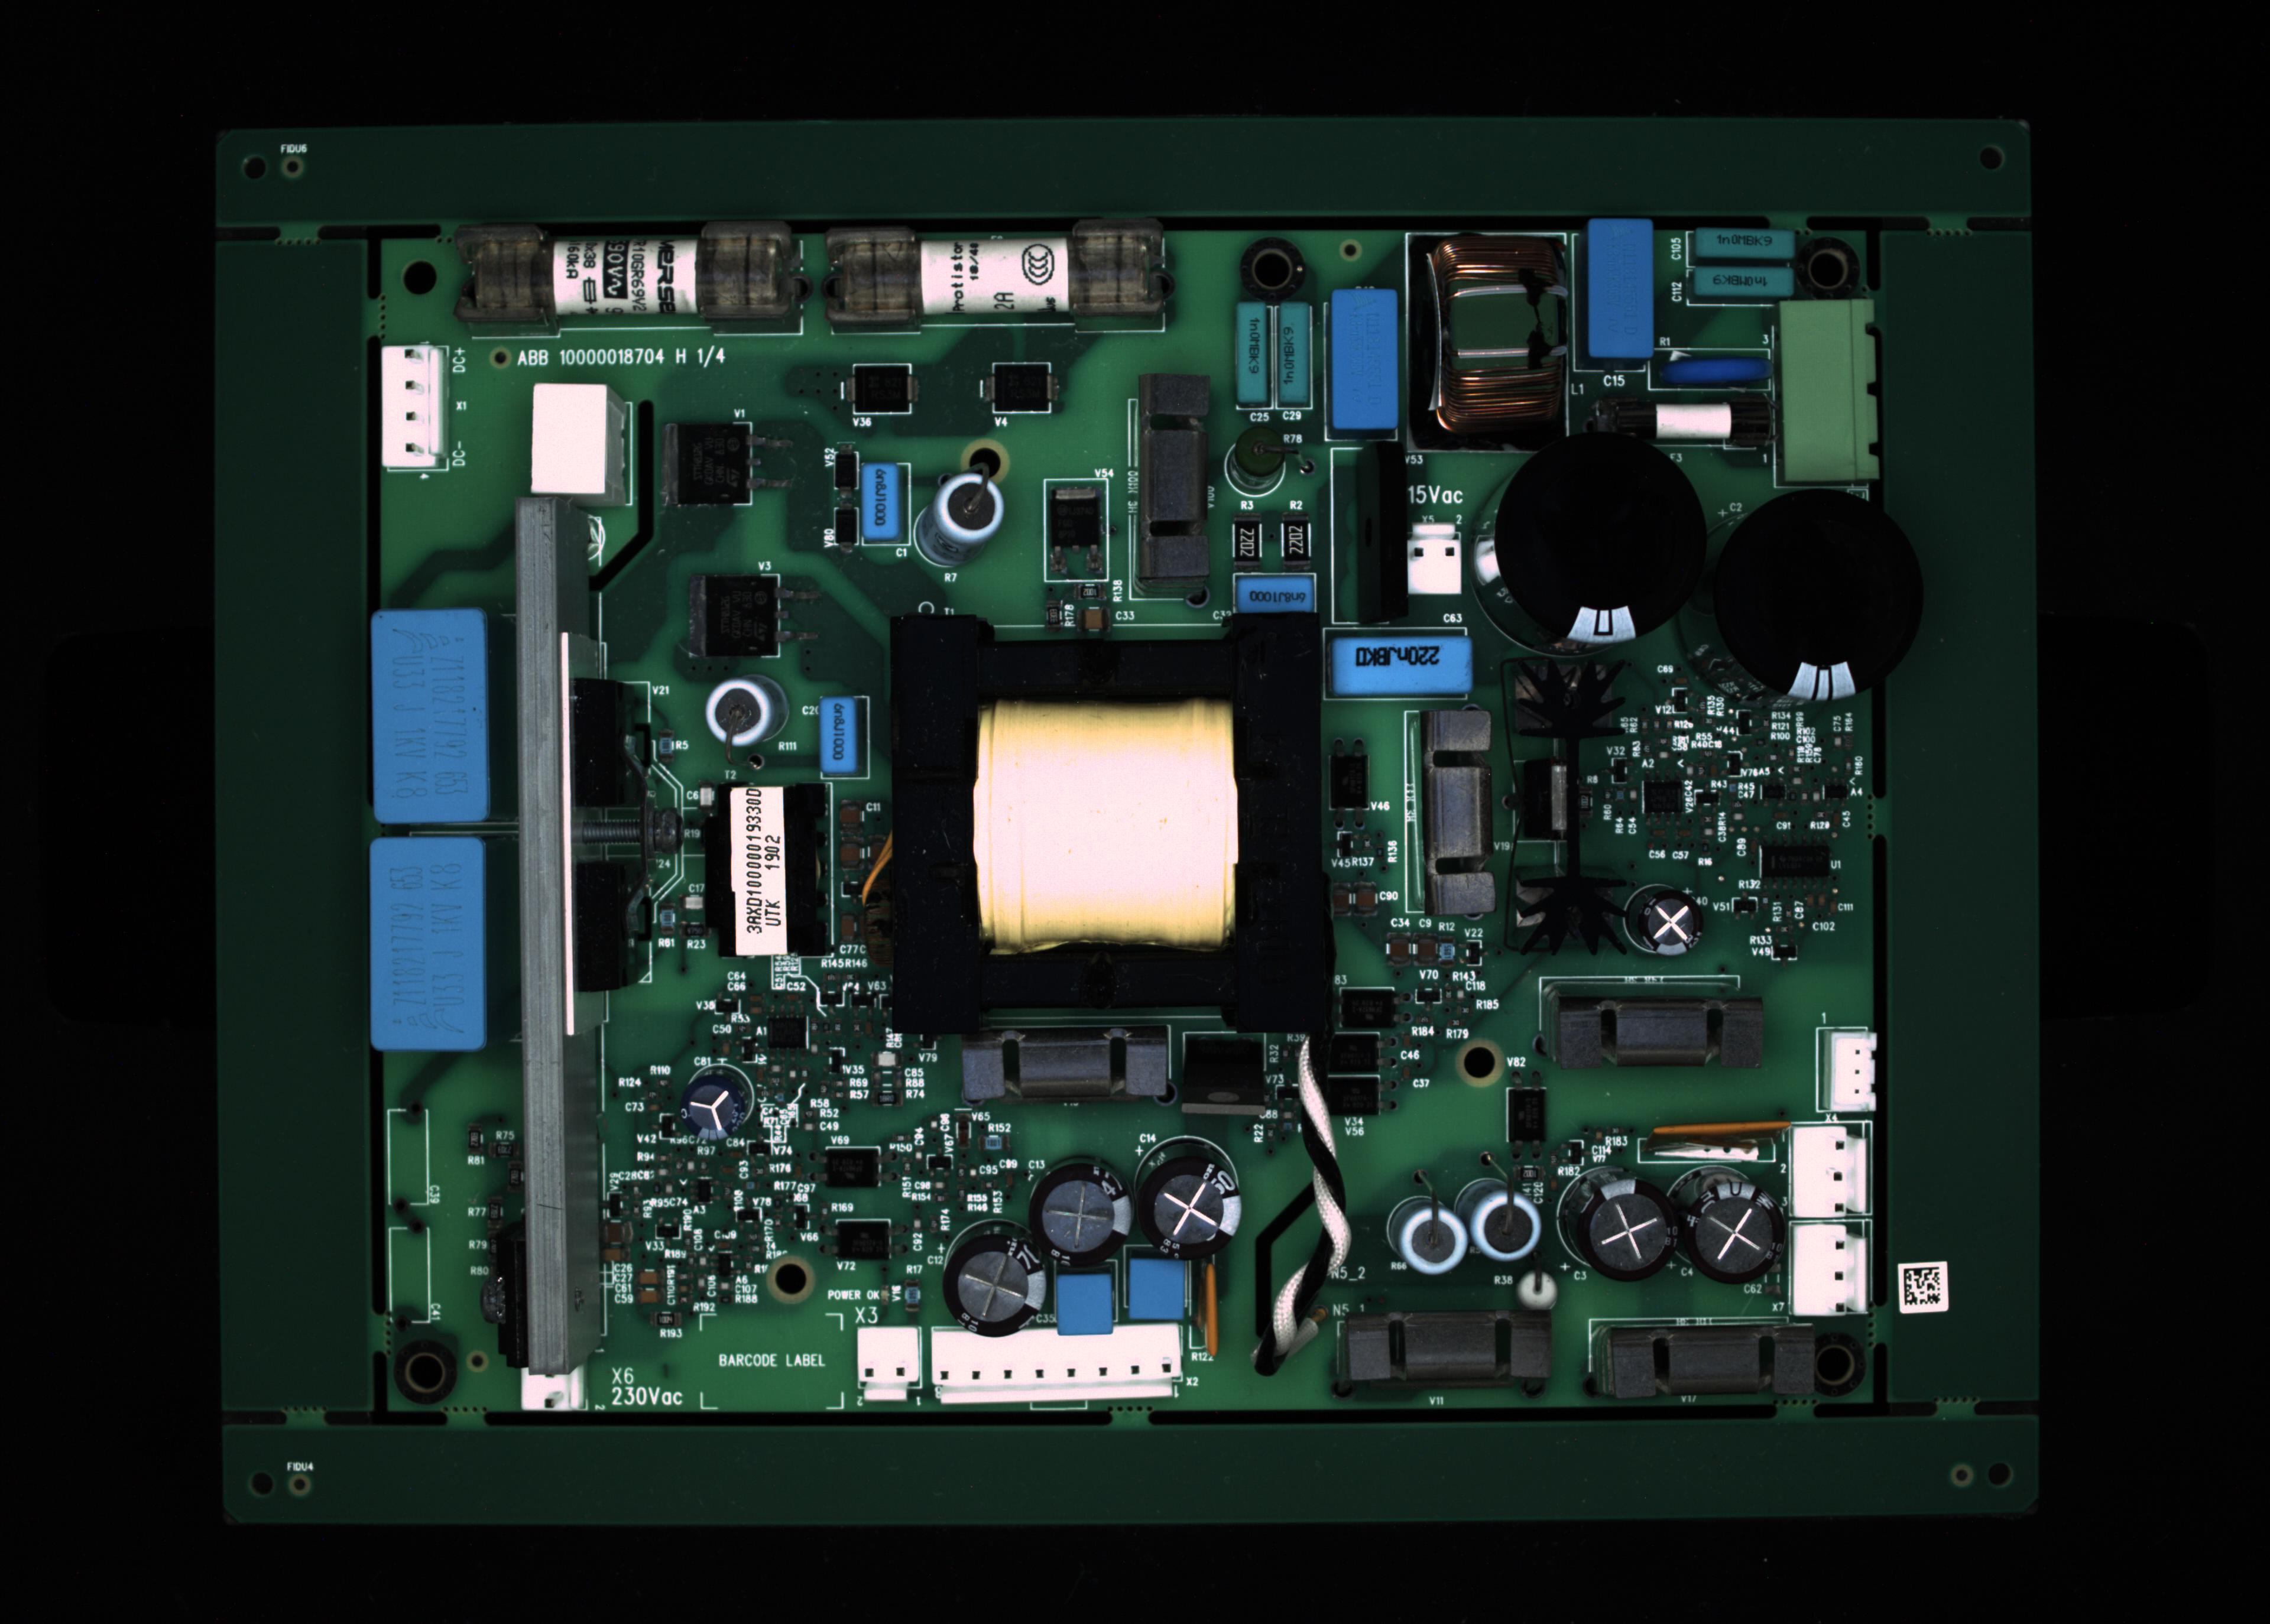10_p: (1648, 346, 1772, 394)
11_q: (1785, 304, 1878, 480)
12_r: (1593, 383, 1778, 450)
13_s: (383, 346, 445, 469)
14_t: (529, 380, 629, 503)
15_e: (855, 464, 900, 541)
16_k: (914, 473, 1008, 571)
17_u: (1134, 369, 1215, 578)
18_v: (1238, 578, 1315, 615)
19_w: (1335, 633, 1468, 696)
1_a: (457, 216, 807, 325)
20_f: (1407, 526, 1459, 594)
21_g: (1491, 429, 1711, 642)
22_g: (1714, 485, 1925, 701)
23_h: (376, 610, 484, 819)
24_h: (371, 837, 484, 1048)
25_f: (524, 1369, 586, 1410)
26_f: (855, 1329, 918, 1399)
27_x: (932, 1323, 1176, 1404)
28_i: (1136, 1153, 1241, 1262)
29_i: (1025, 1164, 1132, 1274)
2_a: (823, 216, 1175, 323)
30_i: (941, 1232, 1048, 1338)
31_j: (1053, 1276, 1111, 1334)
32_j: (1127, 1258, 1189, 1322)
33_e: (821, 698, 858, 772)
34_k: (1384, 1193, 1465, 1281)
35_k: (1458, 1171, 1546, 1264)
36_i: (1572, 1178, 1686, 1283)
37_i: (1686, 1176, 1790, 1285)
38_l: (1335, 1318, 1560, 1385)
39_l: (1593, 1322, 1822, 1401)
3_b: (1233, 304, 1268, 402)
40_l: (1539, 991, 1769, 1069)
41_y: (1415, 715, 1493, 919)
42_z: (1827, 1033, 1878, 1109)
43_m: (1795, 1127, 1866, 1216)
44_m: (1797, 1223, 1867, 1315)
45_i: (679, 1070, 751, 1142)
46_n: (1340, 982, 1394, 1030)
47_n: (821, 1148, 877, 1188)
48_n: (833, 1222, 891, 1267)
49_aa: (761, 1011, 809, 1053)
4_b: (1277, 297, 1313, 408)
50_n: (1328, 1033, 1379, 1072)
51_n: (1319, 1076, 1373, 1116)
52_ab: (1331, 747, 1368, 807)
53_ac: (1656, 1130, 1790, 1165)
54_ad: (1197, 1262, 1226, 1359)
55_l: (955, 1021, 1175, 1100)
56_ae: (1178, 1030, 1277, 1113)
57_af: (1509, 647, 1635, 951)
58_i: (1637, 884, 1707, 956)
59_o: (993, 364, 1048, 415)
5_c: (1331, 286, 1400, 425)
60_o: (855, 364, 911, 413)
6_6: (1424, 236, 1579, 432)
7_c: (1586, 218, 1651, 353)
8_d: (1695, 228, 1792, 255)
9_d: (1693, 265, 1793, 299)
